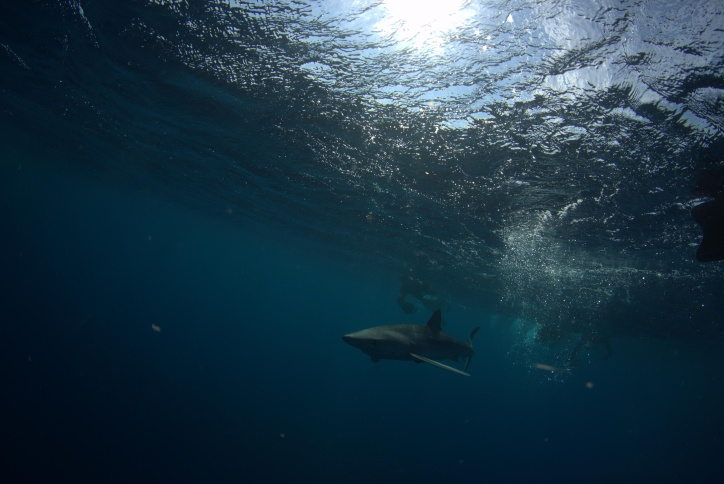Azul: (326, 305, 501, 396)
